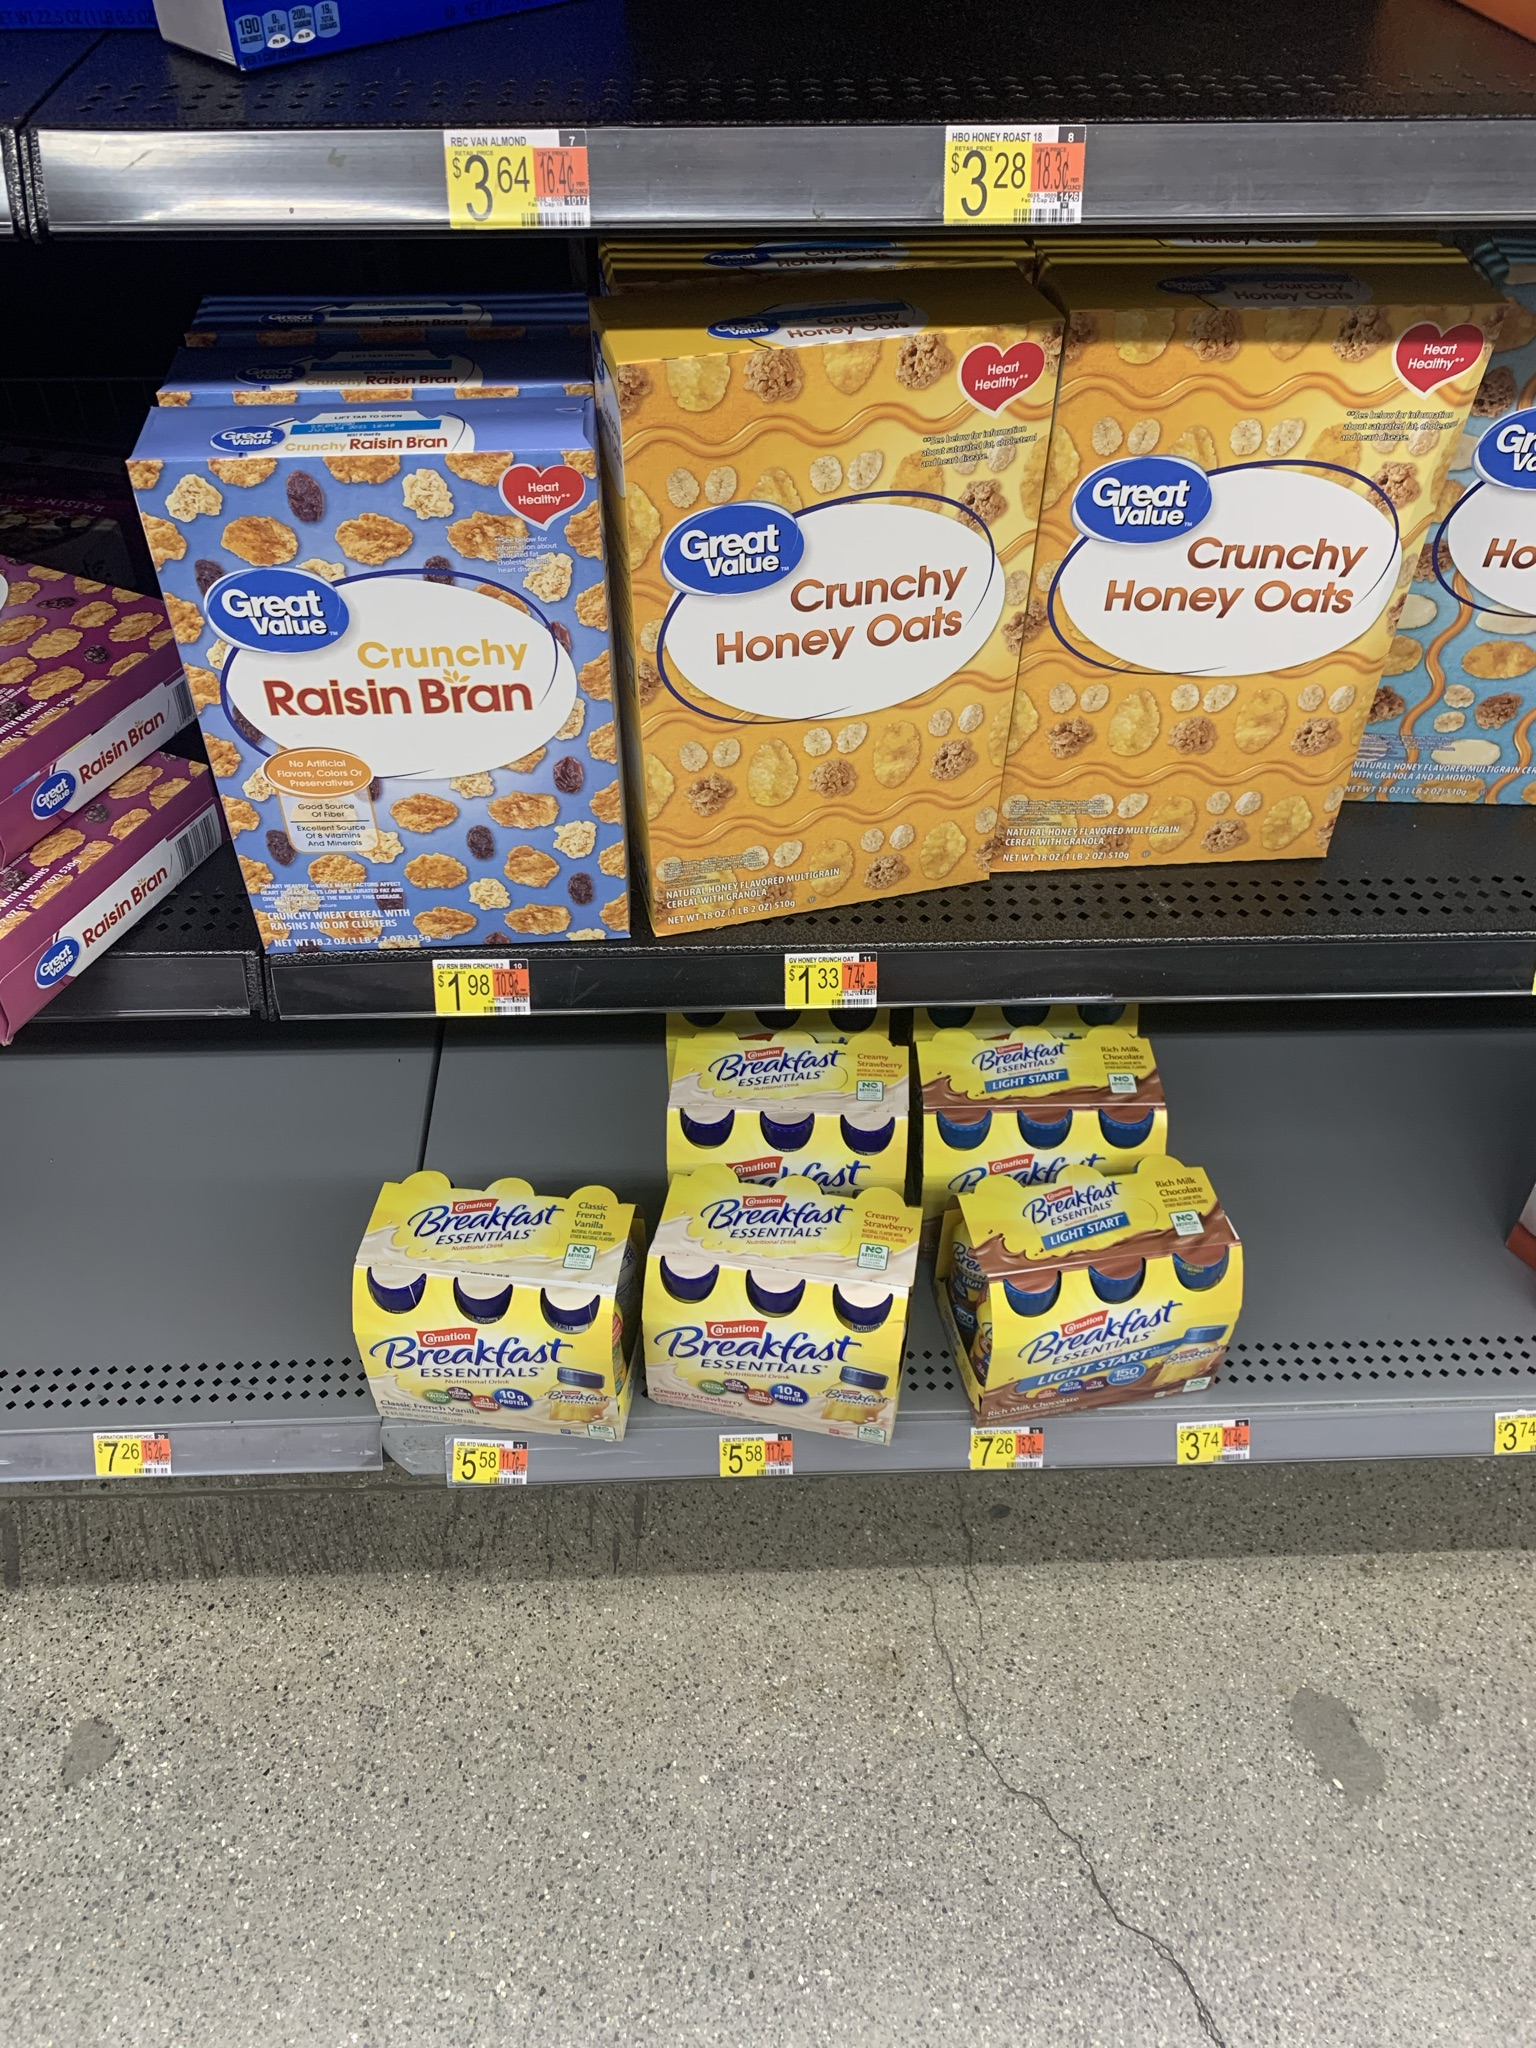Cereal: (360, 1277, 611, 1438)
